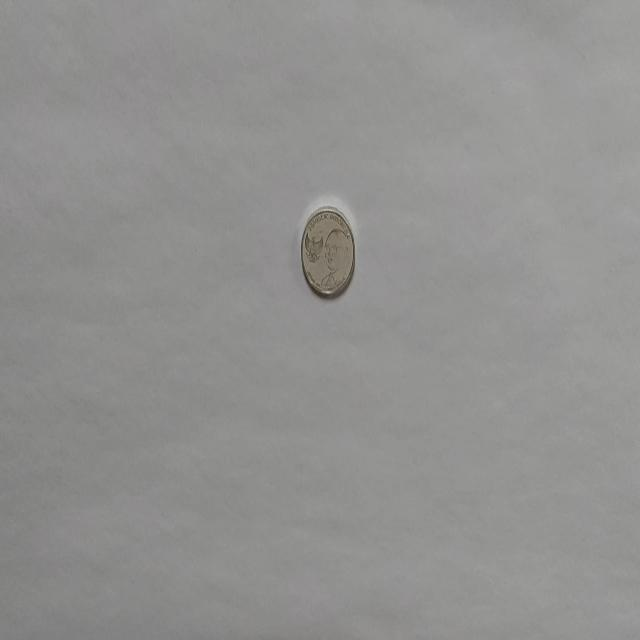lima ratus rupiah: (300, 205, 356, 299)
